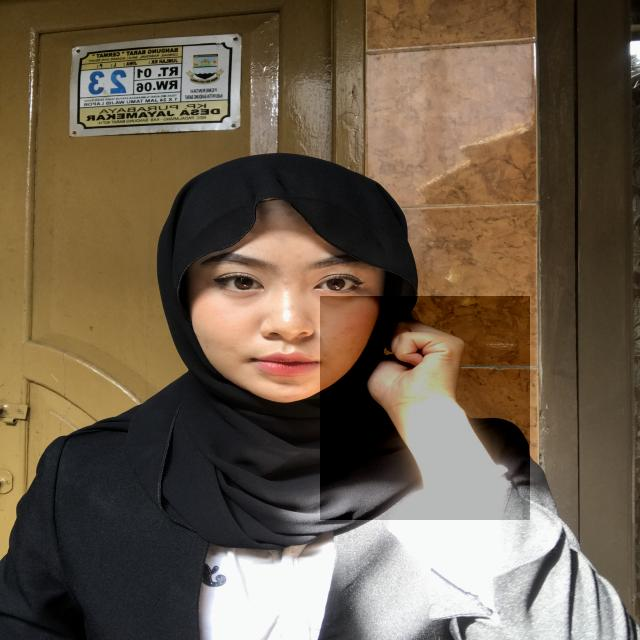ibu: (320, 296, 530, 520)
